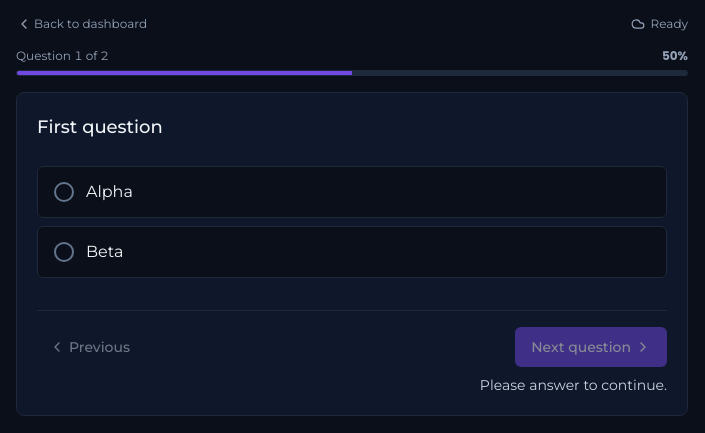
Test: AssessmentRunner optimistic navigation › keeps a failed background save queued and retries it on the next navigation
Click the radio button labelled "Alpha".
click(109, 192)  # box [37,166,667,218]
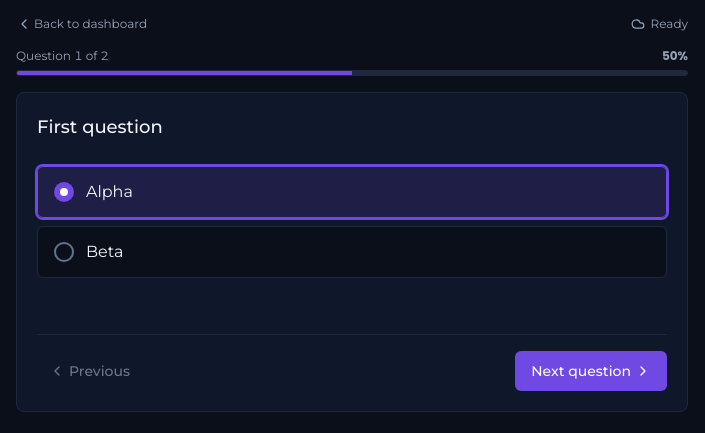
Click the button "Next question".
click(591, 371)  # box [515,351,667,391]
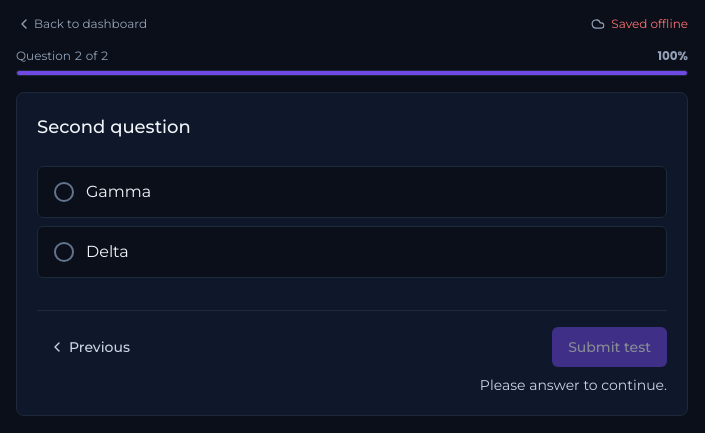
Result: the text "Second question" is shown at [37,116,191,138]
Result: the text "Saved offline" is shown at [611,16,688,32]
Click the button "Previous".
click(90, 347)  # box [37,327,142,367]
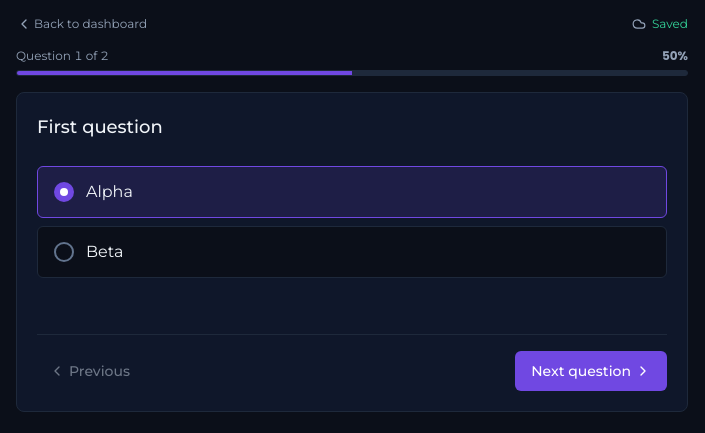
Result: the text "First question" is shown at [37,116,163,138]
